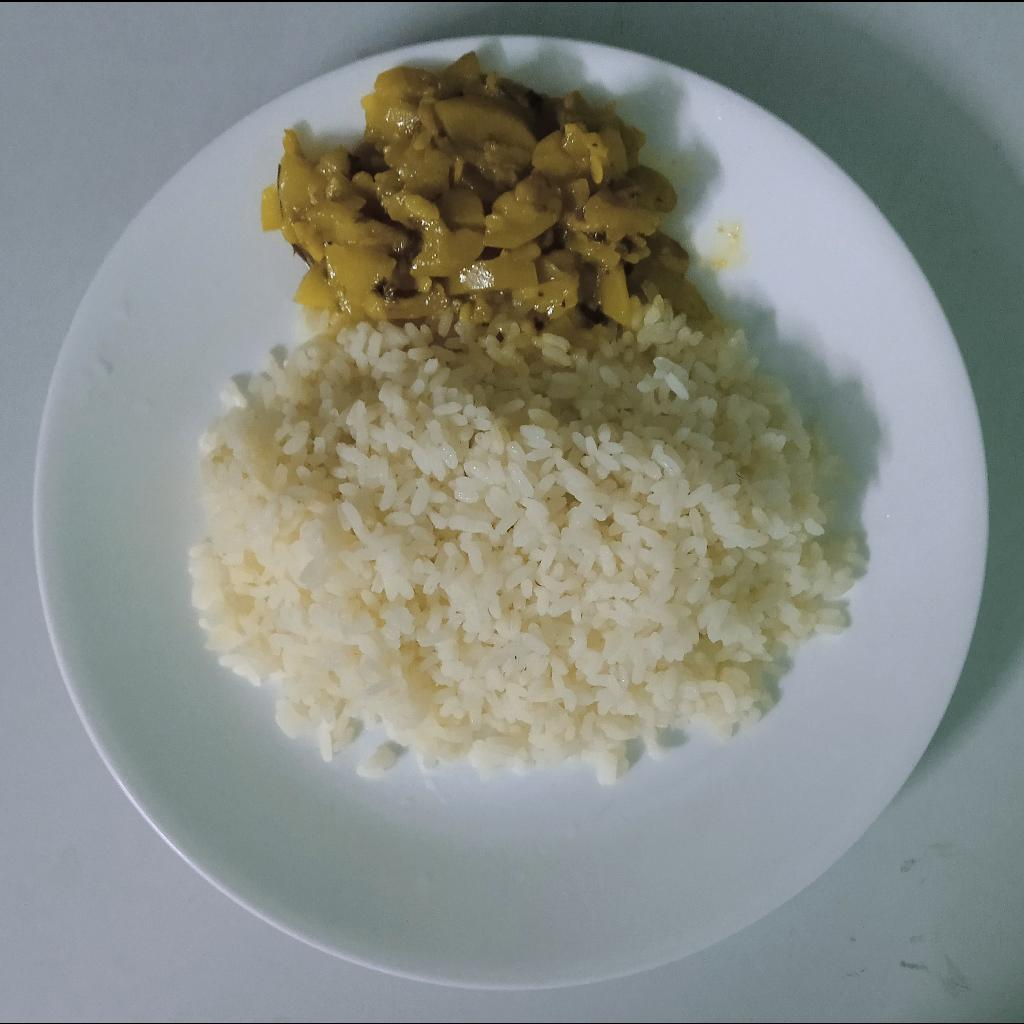dundol: (258, 50, 709, 323)
rice: (192, 295, 874, 784)
